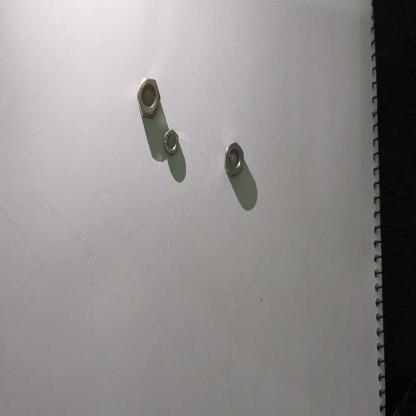NUTS: (221, 123, 246, 179), (138, 72, 161, 121), (162, 127, 182, 155)
